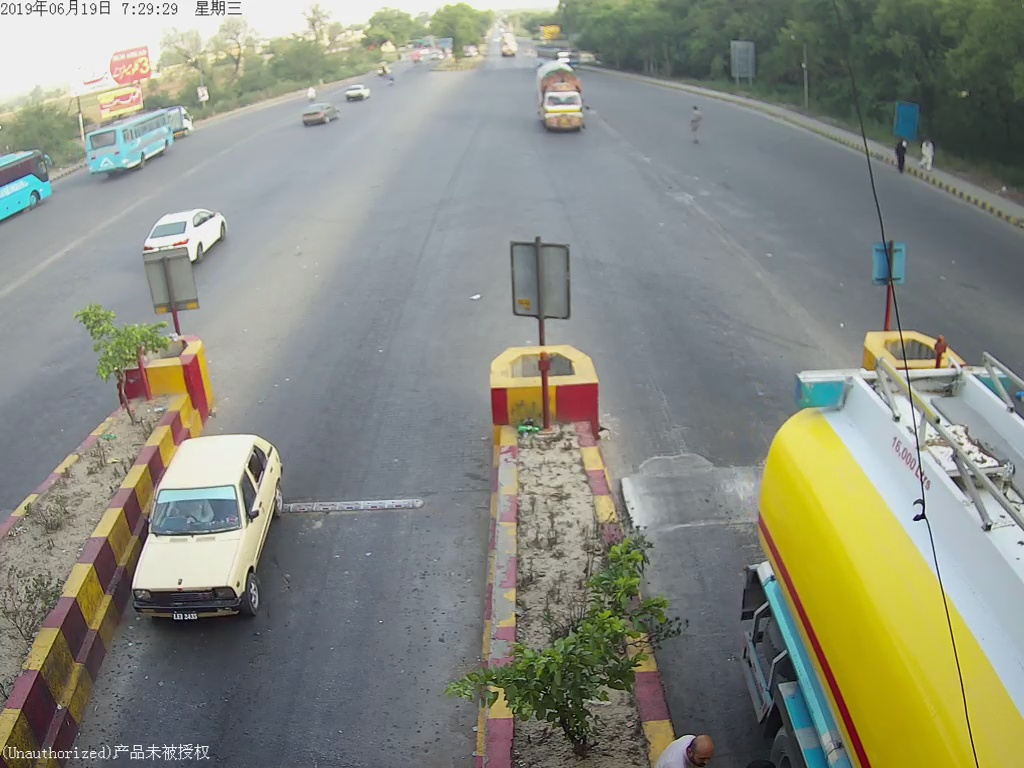Cat-1: (136, 440, 290, 631)
Cat-4: (533, 66, 590, 136)
